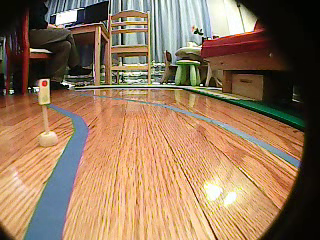Red Traffic Light: (36, 76, 54, 105)
